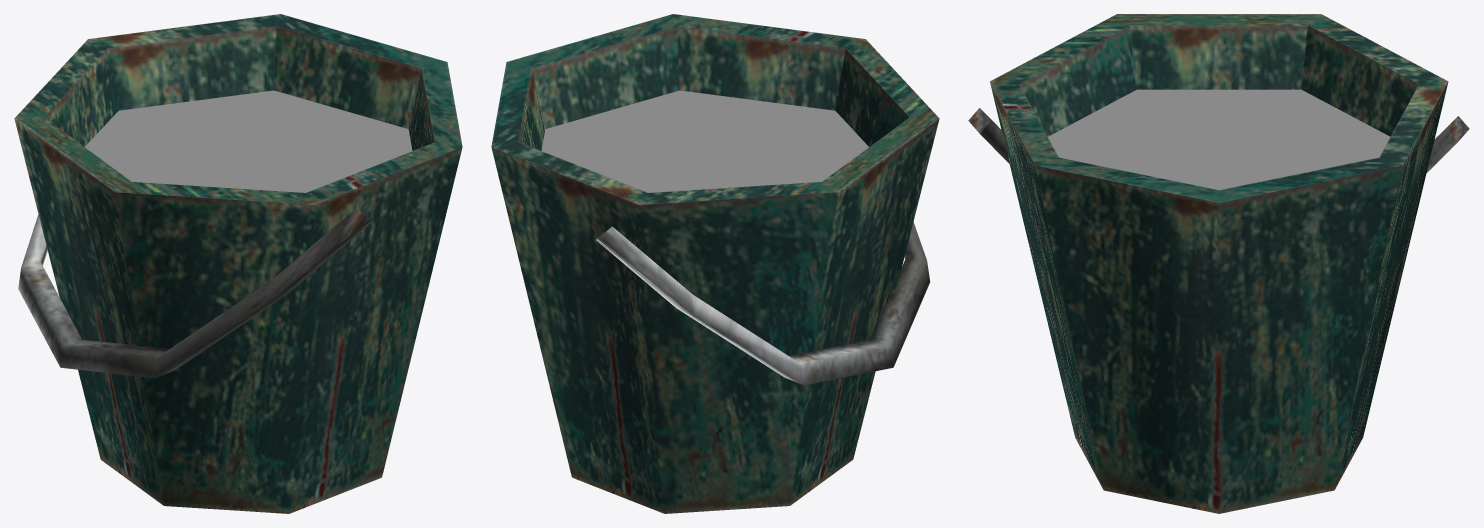
Rendered from bucket.FBX.
The picture shows the model from 3 angles, left to right: view 1: azimuth 30°, elevation 25°; view 2: azimuth 150°, elevation 25°; view 3: azimuth 270°, elevation 25°; orthographic projection.
Visible parts, largest first — view 1: Cylinder001, bucket; view 2: Cylinder001, bucket; view 3: Cylinder001, bucket.
Boxes of the visible parts, x1,y1,x2,y2 form: Cylinder001: (14, 14, 462, 513); bucket: (85, 90, 412, 192); Cylinder001: (491, 14, 939, 513); bucket: (541, 90, 868, 192); Cylinder001: (968, 14, 1469, 513); bucket: (1048, 89, 1390, 189).
Size of the model in its own units: 67.31 by 74.62 by 57.15.
